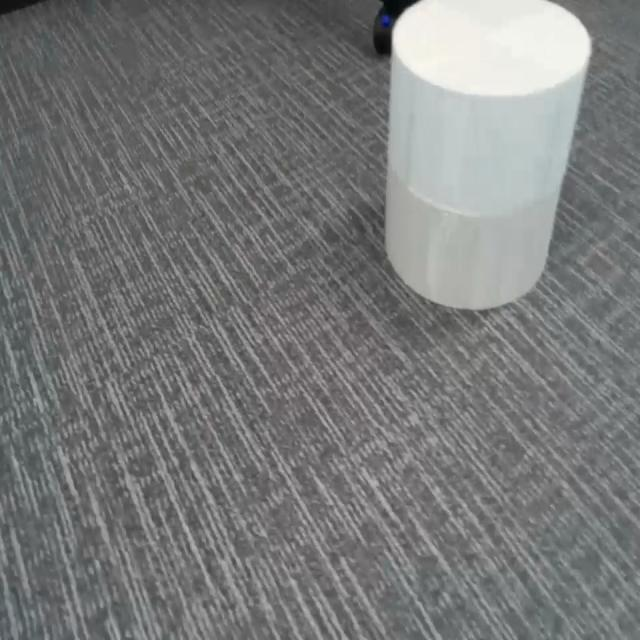cylinder: (384, 1, 593, 310)
